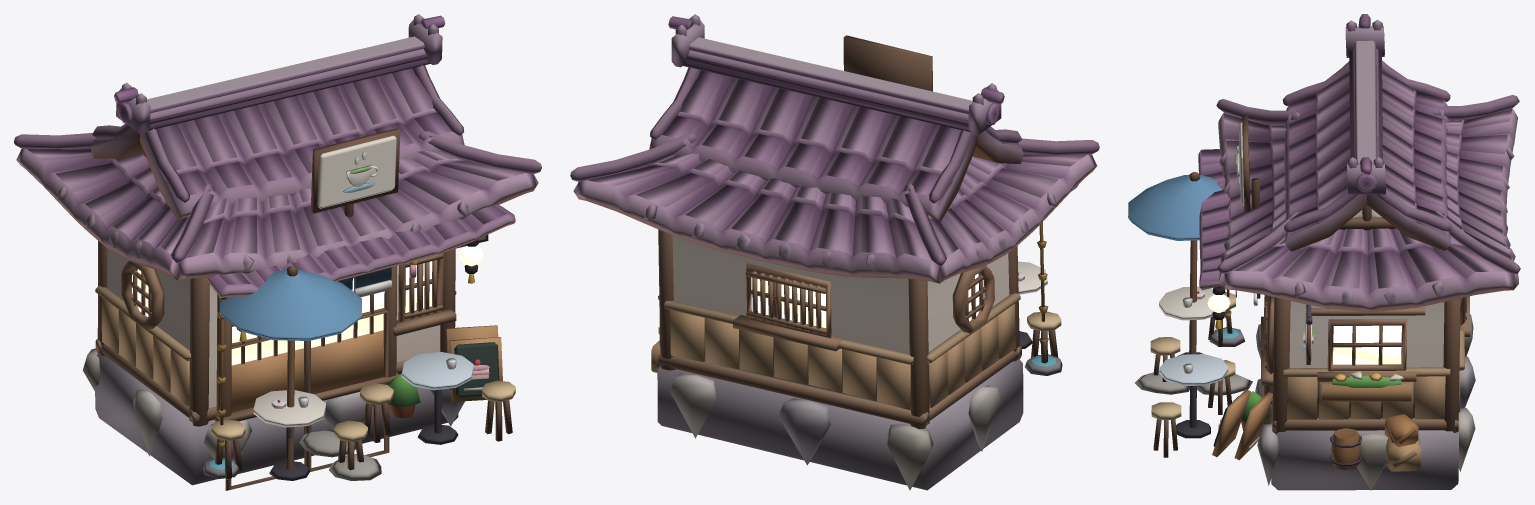
The model's file is shop-2-v5.glb.
The picture shows the model from 3 angles, left to right: view 1: azimuth 30°, elevation 25°; view 2: azimuth 150°, elevation 25°; view 3: azimuth 270°, elevation 25°; orthographic projection. The views are drawn at different scales.
Parts seen in each view (by area): view 1: shop-2-v5, window_glow; view 2: shop-2-v5, window_glow; view 3: shop-2-v5, window_glow.
Boxes of the visible parts, x1,y1,x2,y2 form: shop-2-v5: (14, 14, 541, 490); window_glow: (132, 245, 483, 365); shop-2-v5: (570, 14, 1099, 490); window_glow: (751, 274, 984, 328); shop-2-v5: (1128, 14, 1520, 490); window_glow: (1207, 294, 1401, 364).
Bounding box in the file's own units: 3.52 × 3.4 × 3.42.
